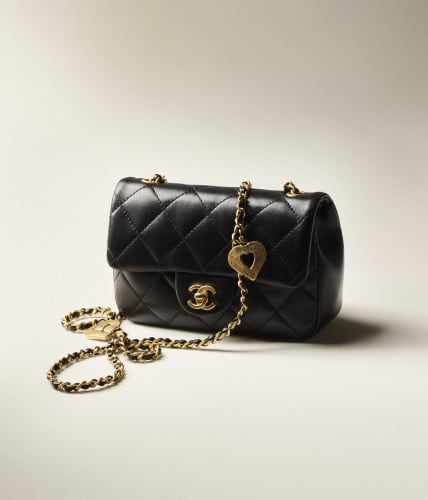channel: (95, 141, 354, 335), (57, 304, 159, 379), (180, 275, 236, 317)
